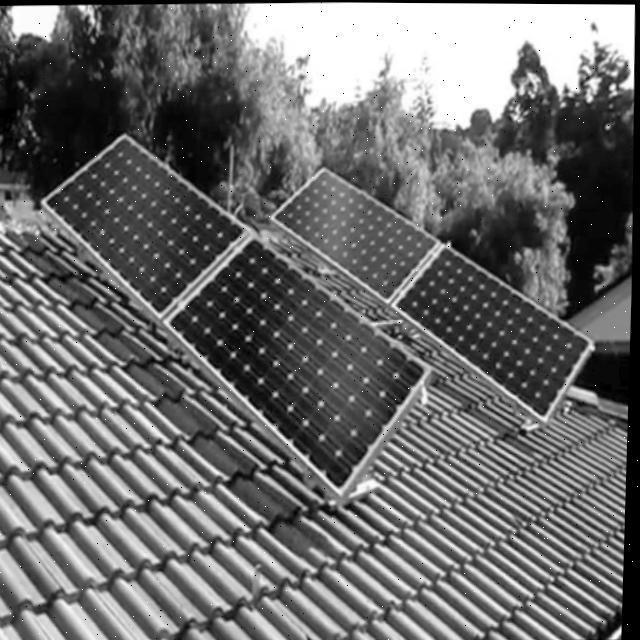Normal Solar Panel: (37, 130, 440, 503), (270, 162, 600, 424)
